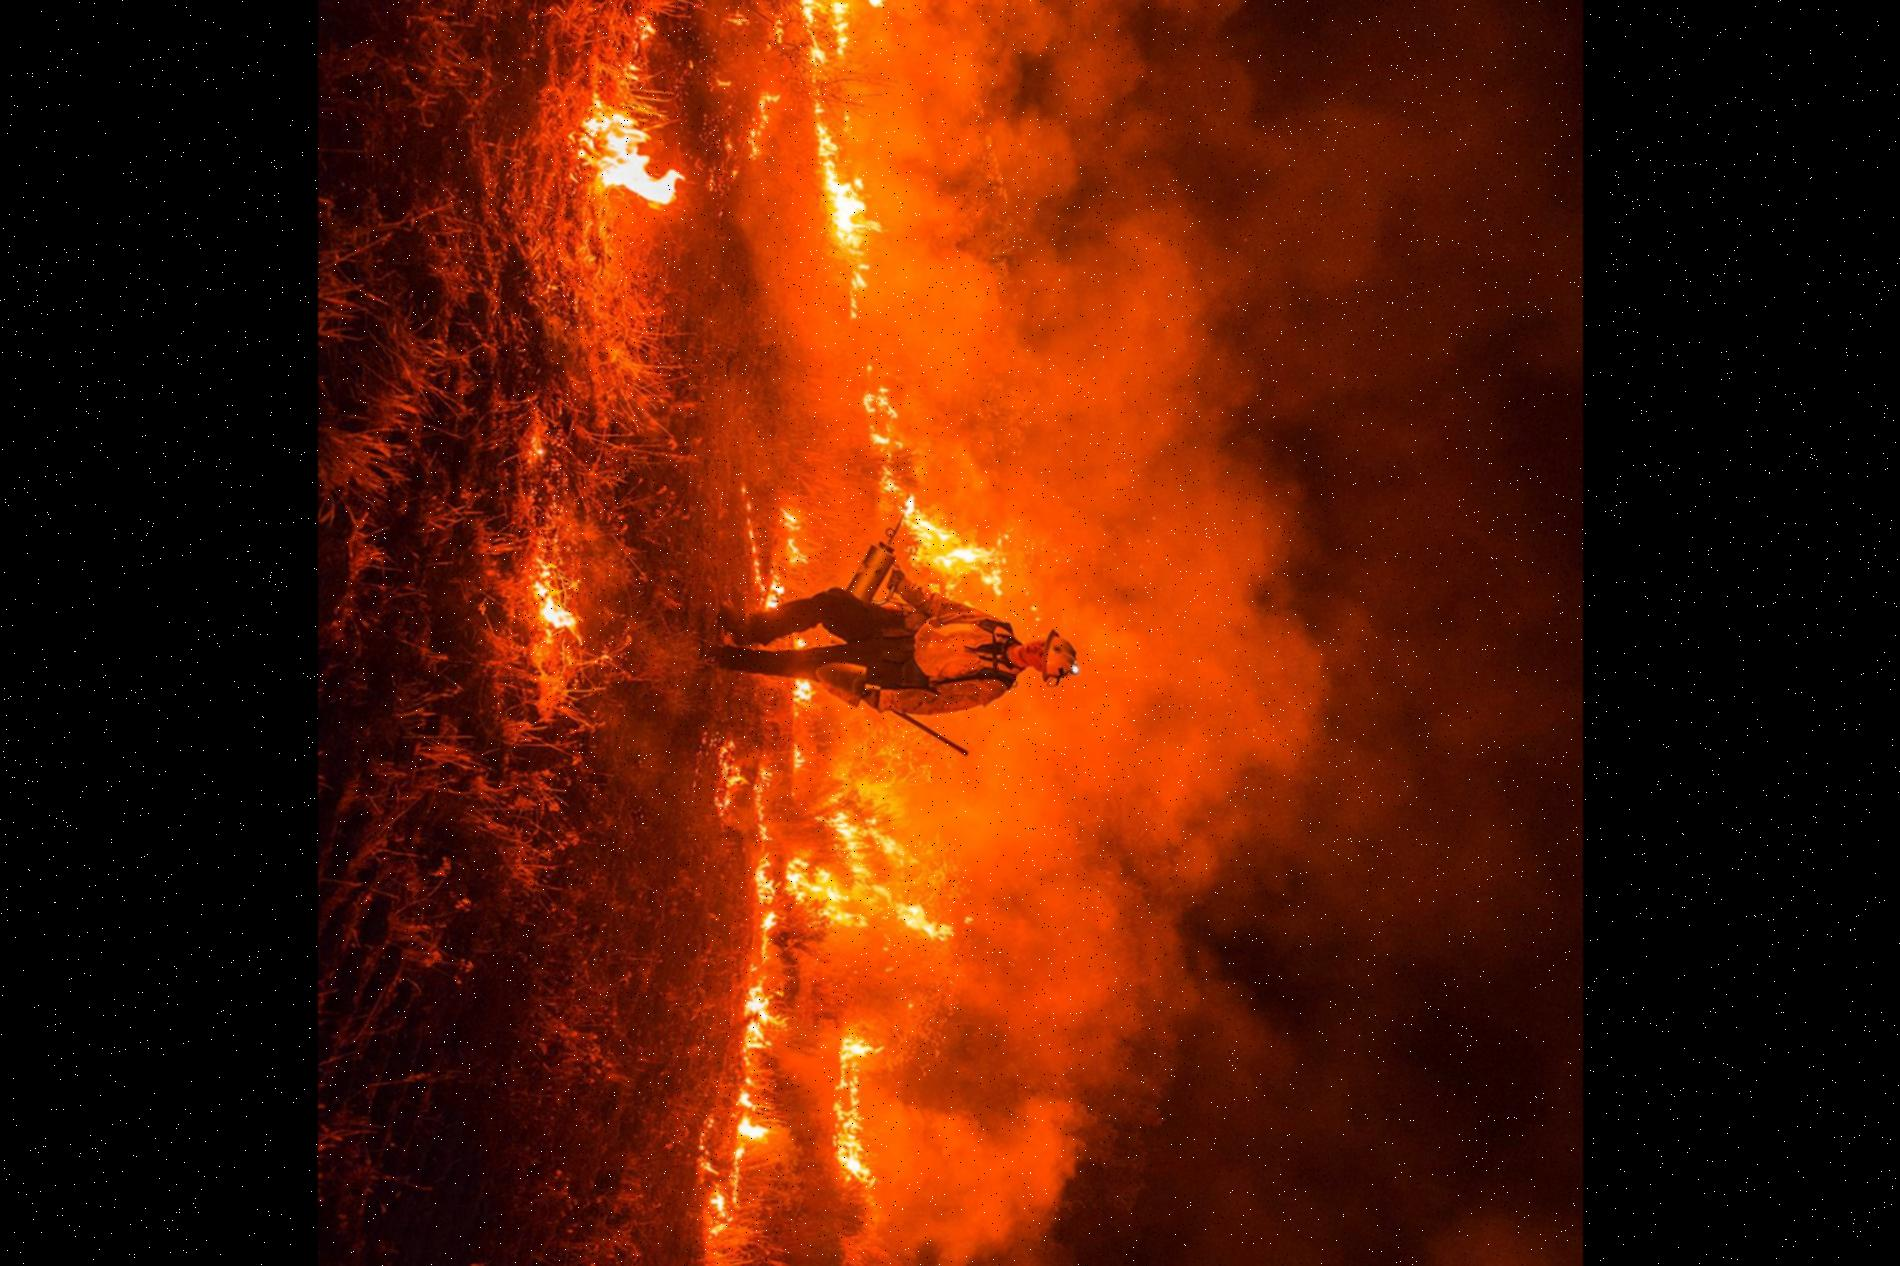fire: (509, 0, 1021, 680), (658, 738, 1091, 1266)
